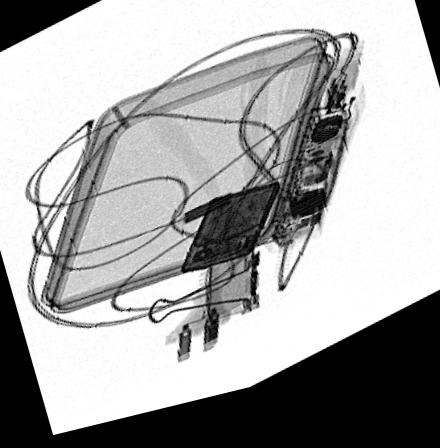Lighter: (178, 193, 280, 283)
